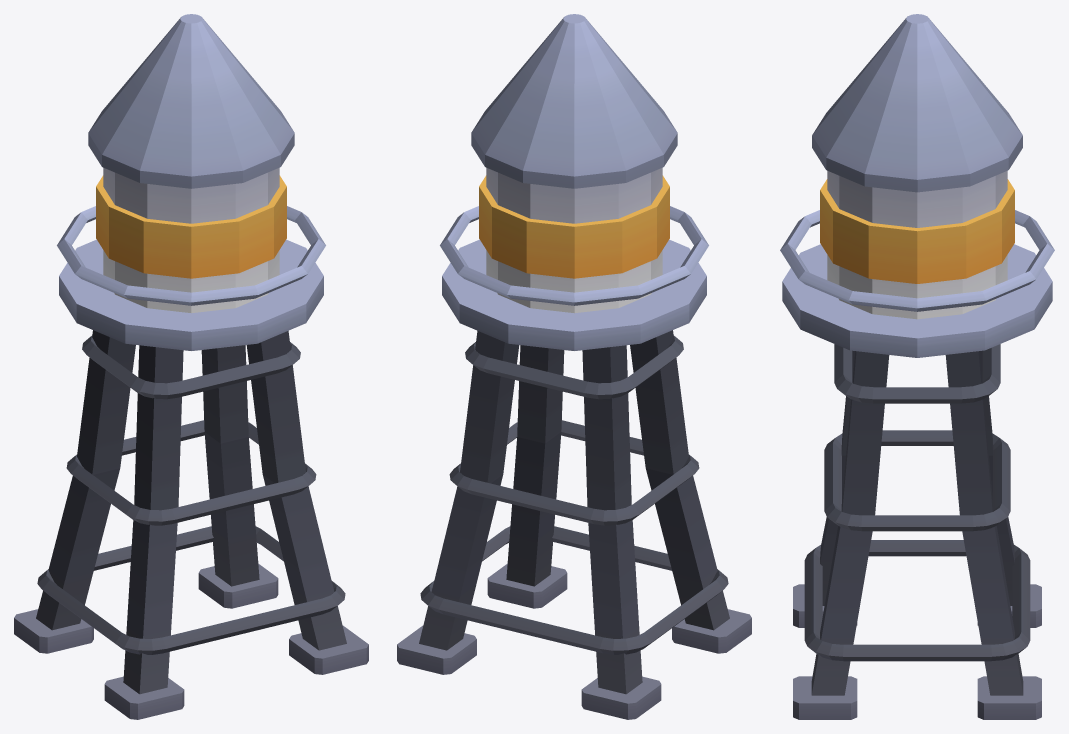
The model's file is industrial__water-tower.glb.
3 views of the same model, side by side, from view 1: azimuth 30°, elevation 25°; view 2: azimuth 150°, elevation 25°; view 3: azimuth 270°, elevation 25° (orthographic). The views are drawn at different scales.
Visible parts, largest first — view 1: water-tower; view 2: water-tower; view 3: water-tower.
Part boxes in pixels (box(x1,y1,x2,y2)): water-tower: box(14, 14, 368, 719); water-tower: box(397, 14, 751, 719); water-tower: box(780, 14, 1054, 719).
Bounding box in the file's own units: 0.8521 × 2.14 × 0.8317.
Materials: 1 (1 with a texture image).
